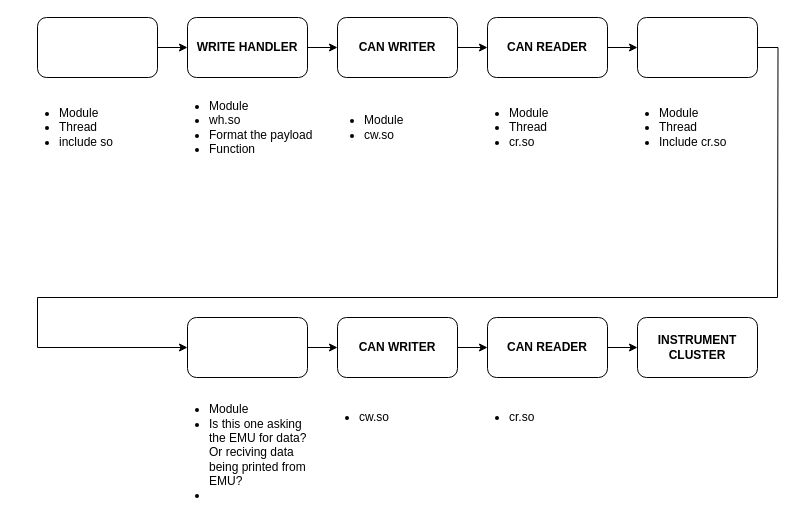
Image size: 796x532. Some labels were removed from this diagram. The box of each missing label's shape, as (x1, y1, x2, y2) in pixels:
EMULATOR: (636, 16, 758, 78)
INPUT: (36, 16, 158, 78)
OUT HANDLER: (186, 316, 308, 378)
